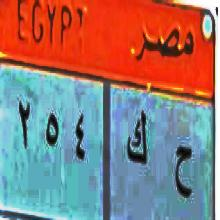2: (13, 96, 36, 158)
4: (71, 109, 89, 176)
5: (46, 105, 62, 158)
7aa: (172, 131, 195, 203)
kaaf: (126, 107, 150, 178)
